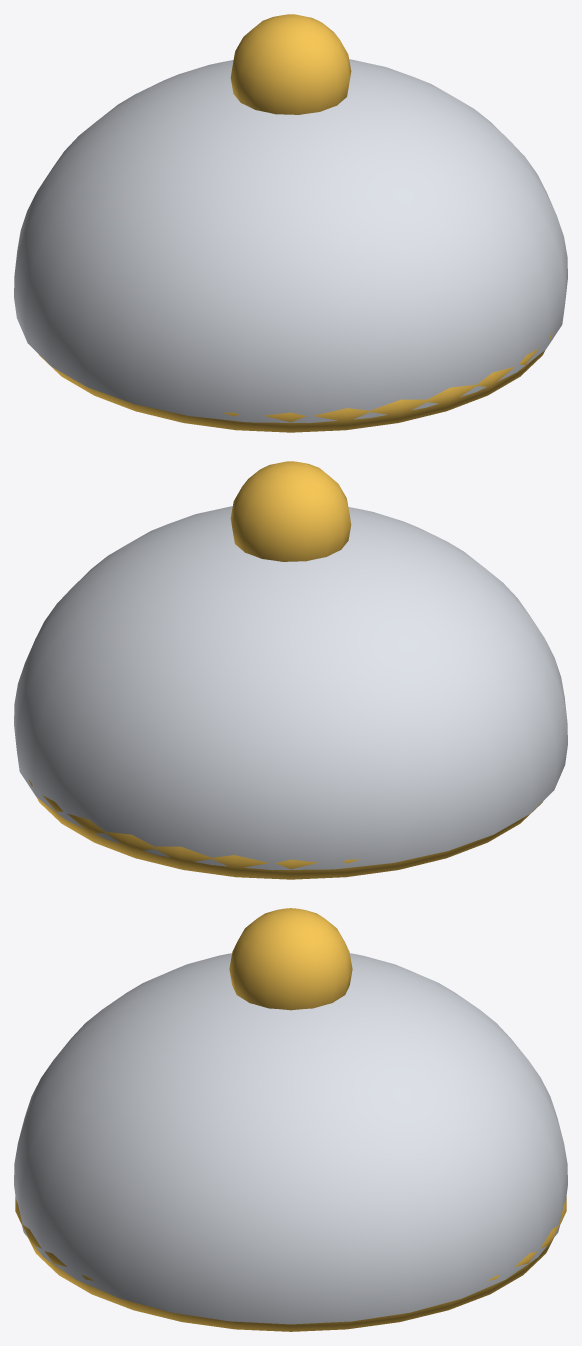
3 views of the same model, one above another, from view 1: azimuth 30°, elevation 25°; view 2: azimuth 150°, elevation 25°; view 3: azimuth 270°, elevation 25° (orthographic).
Visible parts, largest first — view 1: headwear.training-beanie.body, headwear.training-beanie.pom, headwear.training-beanie.cuff; view 2: headwear.training-beanie.body, headwear.training-beanie.pom, headwear.training-beanie.cuff; view 3: headwear.training-beanie.body, headwear.training-beanie.pom, headwear.training-beanie.cuff.
Boxes of the visible parts, left/top/right/bottom form: headwear.training-beanie.body: left=14, top=59, right=567, bottom=423; headwear.training-beanie.pom: left=230, top=14, right=351, bottom=114; headwear.training-beanie.cuff: left=39, top=332, right=553, bottom=432; headwear.training-beanie.body: left=14, top=506, right=567, bottom=870; headwear.training-beanie.pom: left=230, top=461, right=351, bottom=561; headwear.training-beanie.cuff: left=28, top=779, right=542, bottom=879; headwear.training-beanie.body: left=14, top=953, right=567, bottom=1324; headwear.training-beanie.pom: left=229, top=908, right=352, bottom=1010; headwear.training-beanie.cuff: left=15, top=1196, right=566, bottom=1331.
Size of the model in its own units: 0.8255 by 0.505 by 0.8093.
